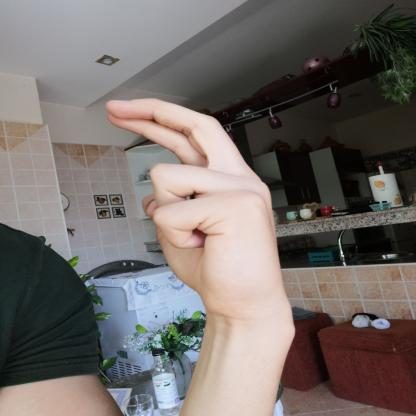ZAY: (90, 88, 307, 337)
